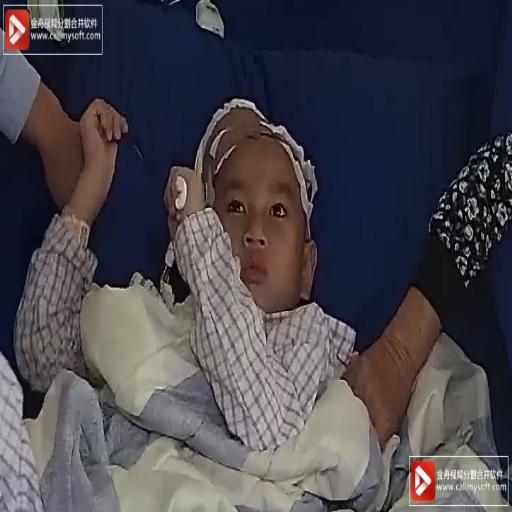Seizure: (196, 115, 316, 277)
